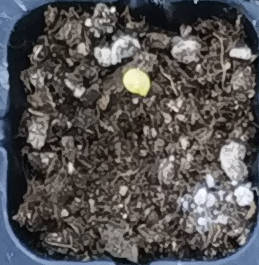pepper seed: (47, 19, 198, 117)
